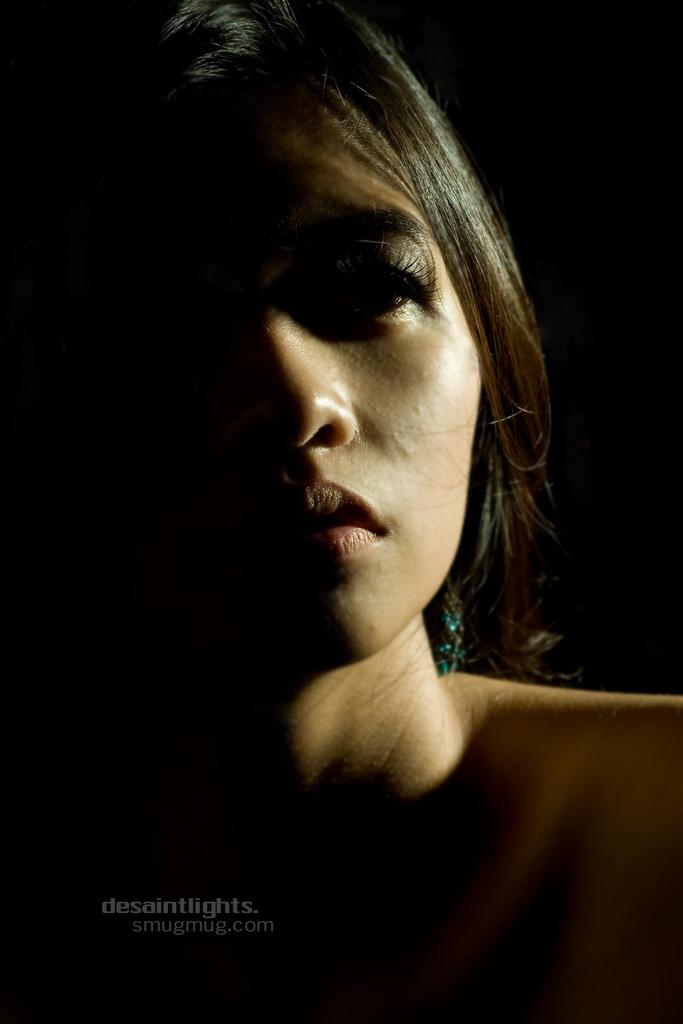Sem Máscara: (195, 76, 486, 667)
